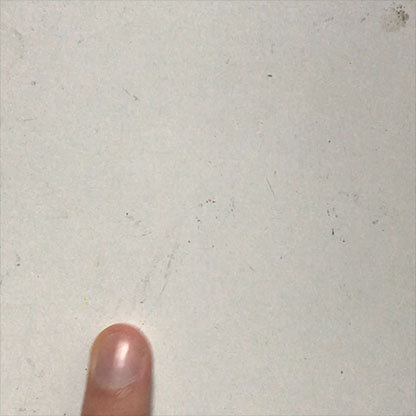fingertip: (79, 314, 159, 403)
